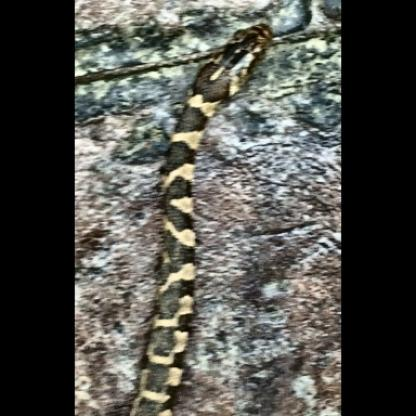Snake: (72, 12, 334, 416)
